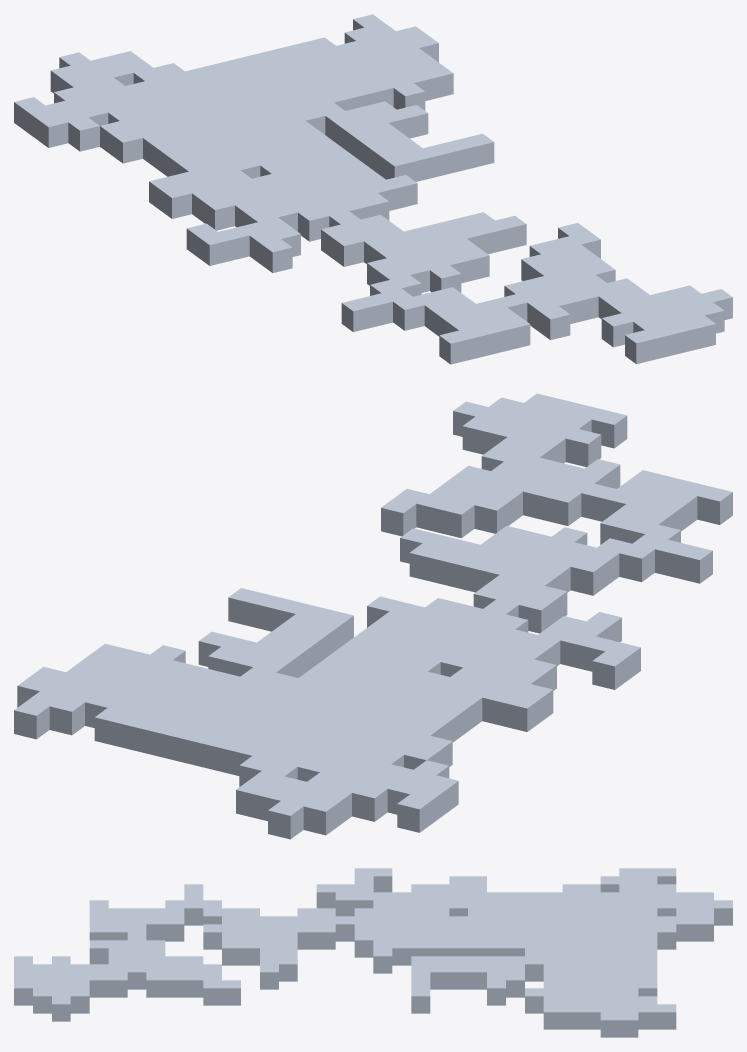
File: nuvem1.fbx
3 renders of one model, top to bottom at view 1: azimuth 30°, elevation 25°; view 2: azimuth 150°, elevation 25°; view 3: azimuth 270°, elevation 25°, orthographic. The views are drawn at different scales.
Visible parts, largest first — view 1: Cube.013; view 2: Cube.013; view 3: Cube.013.
Boxes of the visible parts, x1,y1,x2,y2 form: Cube.013: [14, 14, 732, 364]; Cube.013: [14, 393, 732, 839]; Cube.013: [14, 868, 732, 1037].
Bounding box in the file's own units: 1900 × 100 × 3800.
